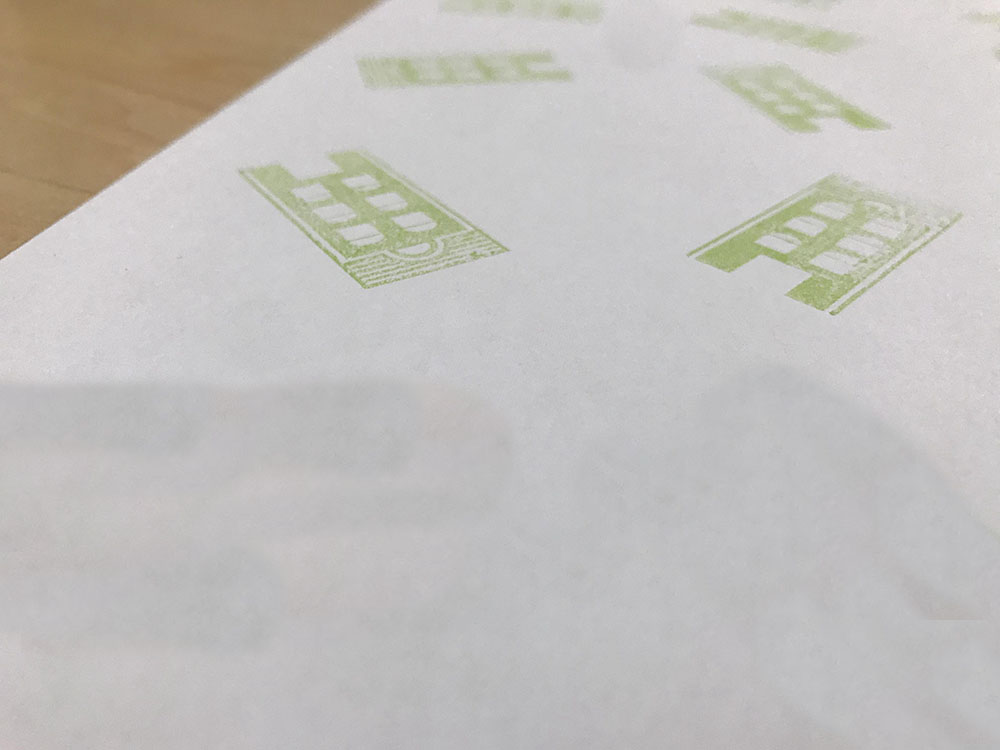build: (673, 155, 976, 340), (221, 133, 533, 300), (682, 55, 909, 153), (342, 37, 591, 113)
